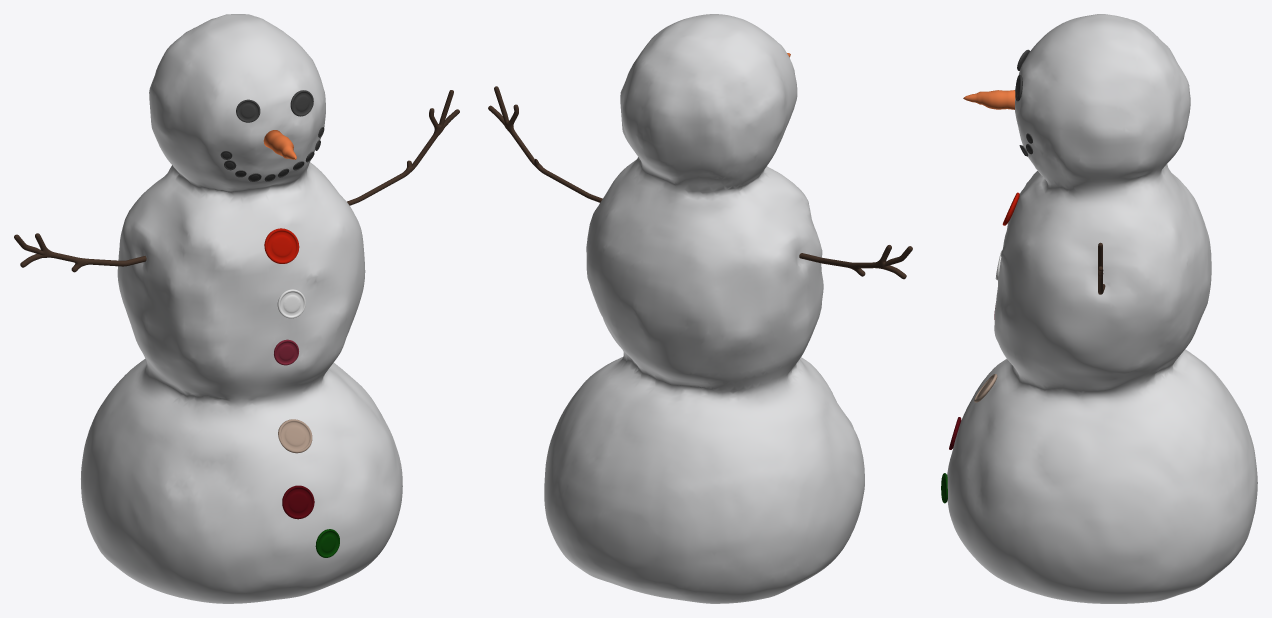
The model's file is snowman.glb.
3 views of the same model, side by side, from view 1: azimuth 30°, elevation 25°; view 2: azimuth 150°, elevation 25°; view 3: azimuth 270°, elevation 25° (orthographic).
Visible parts, largest first — view 1: Object_23, Object_2, Object_3, Object_4, Object_7, Object_8, Object_5, Object_10; view 2: Object_23, Object_3, Object_2; view 3: Object_23, Object_10.
Boxes of the visible parts, <box> form: Object_23: <box>81,14,402,603</box>; Object_2: <box>14,233,146,272</box>; Object_3: <box>347,90,459,205</box>; Object_4: <box>264,228,299,263</box>; Object_7: <box>278,419,312,453</box>; Object_8: <box>282,485,314,519</box>; Object_5: <box>277,289,305,318</box>; Object_10: <box>263,130,296,159</box>; Object_23: <box>544,14,864,603</box>; Object_3: <box>488,86,602,202</box>; Object_2: <box>799,245,912,279</box>; Object_23: <box>947,14,1257,603</box>; Object_10: <box>963,90,1015,109</box>.
Bounding box in the file's own units: 2.58 × 3.07 × 1.64.
